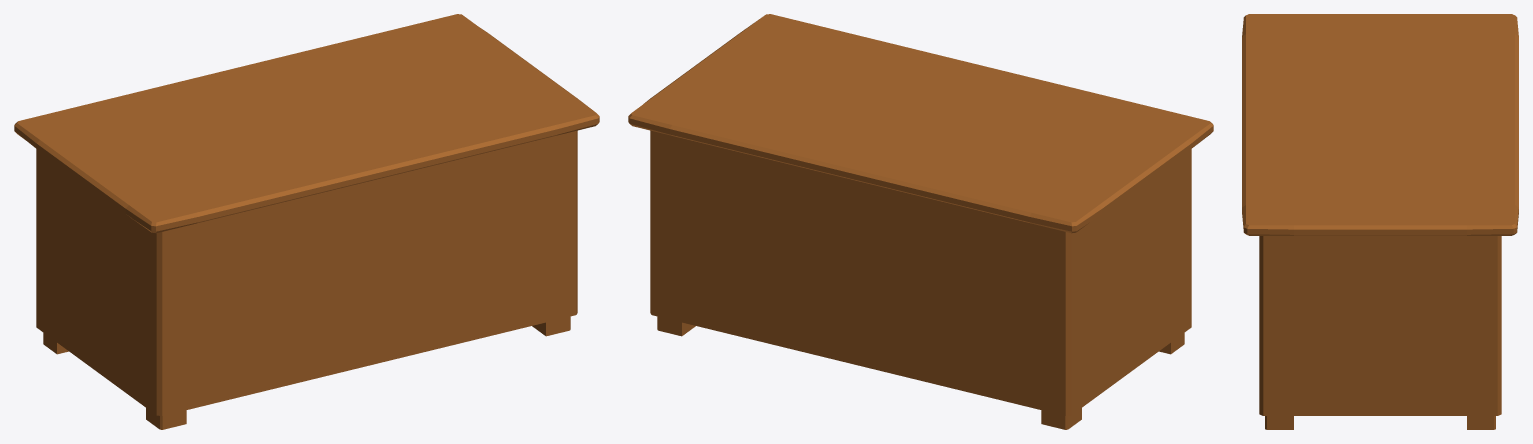
The model's file is Prop_Table.fbx.
3 renders of one model, left to right at view 1: azimuth 30°, elevation 25°; view 2: azimuth 150°, elevation 25°; view 3: azimuth 270°, elevation 25°, orthographic. The views are drawn at different scales.
Visible parts, largest first — view 1: Prop_Table; view 2: Prop_Table; view 3: Prop_Table.
Boxes of the visible parts, left/top/right/bottom form: Prop_Table: left=14, top=14, right=599, bottom=429; Prop_Table: left=628, top=14, right=1213, bottom=429; Prop_Table: left=1242, top=14, right=1518, bottom=429.
Size of the model in its own units: 102 by 187 by 86.27.
